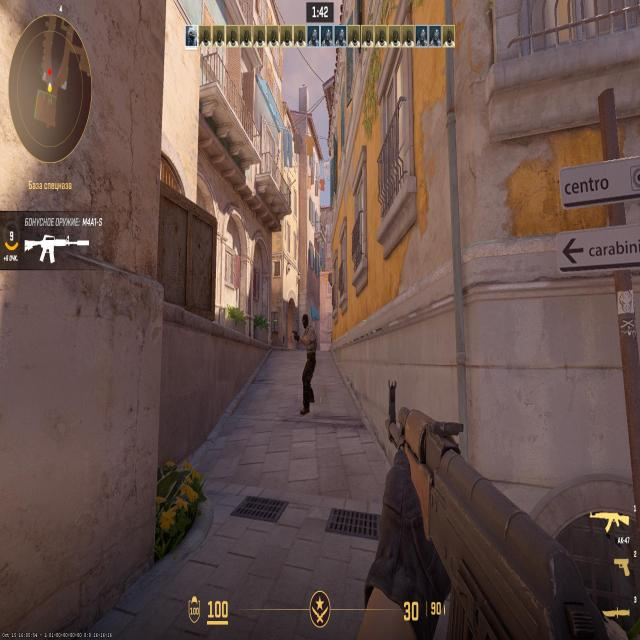T: (299, 312, 314, 412)
T_heat: (301, 311, 312, 326)
